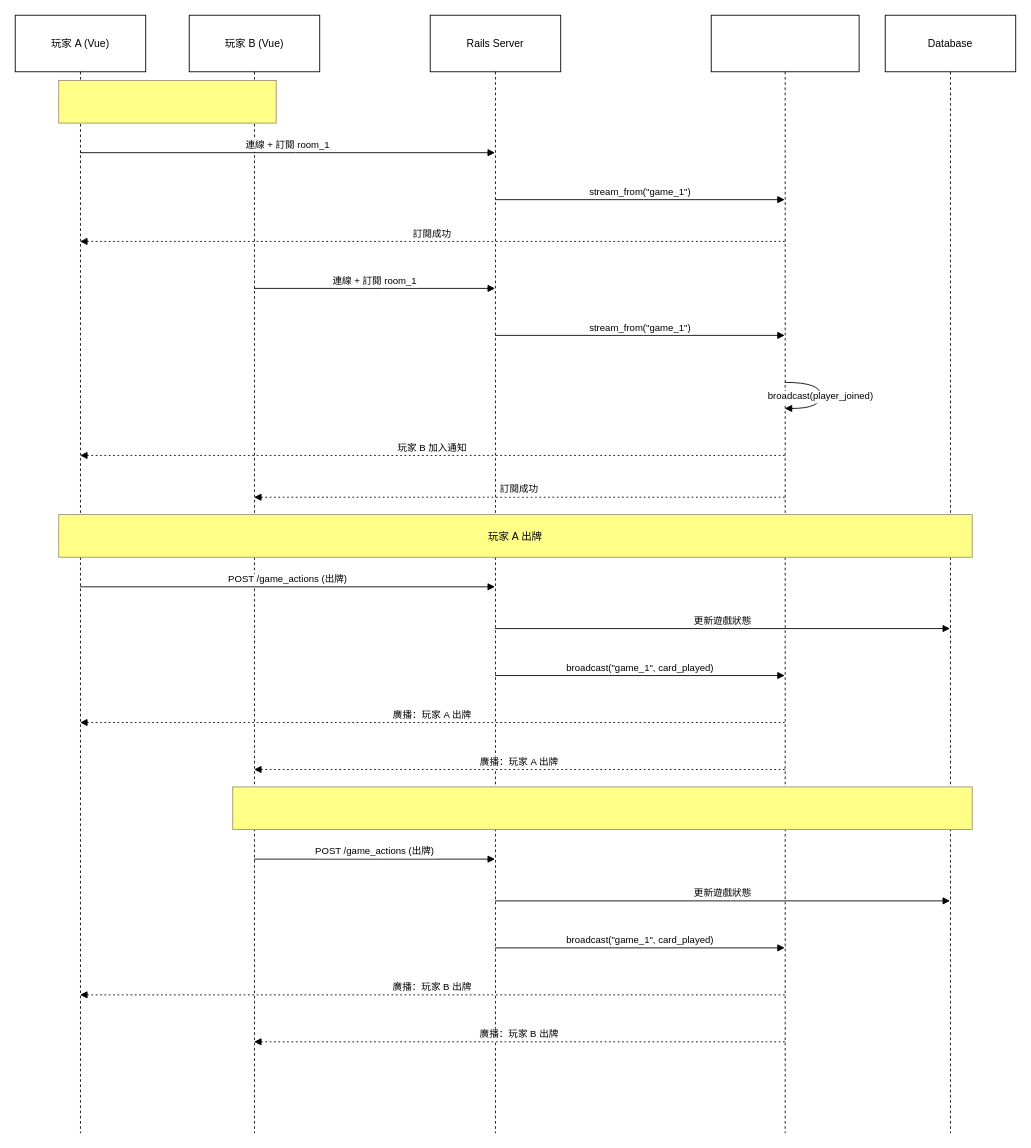
This 1031x1148 diagram has some shape labels left out. Here are the shapes that lost their labels. From the top down, the centre of each, then its label:
point 167,101: 兩位玩家都連線並訂閱
point 784,573: GameChannel app/channels/game_channel.rb
point 602,808: 玩家 B 出牌
